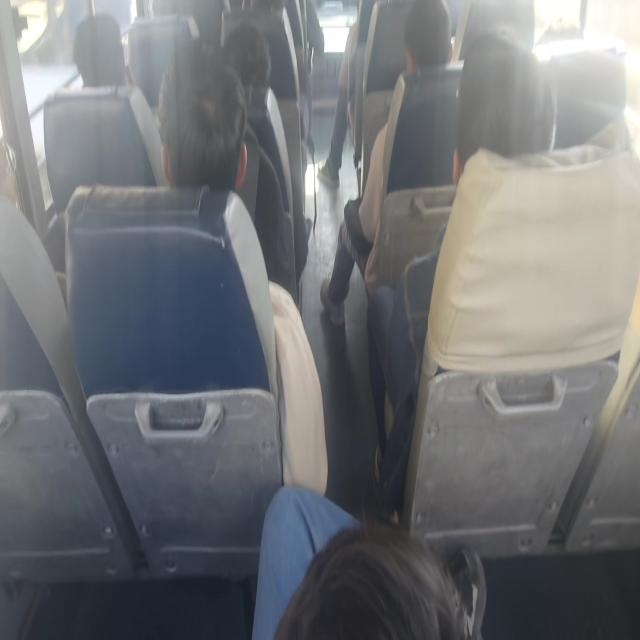person: (271, 530, 479, 636), (453, 39, 555, 187), (161, 49, 248, 198), (396, 0, 459, 83), (217, 24, 273, 100), (72, 15, 128, 89), (532, 7, 591, 68), (0, 129, 27, 218)
